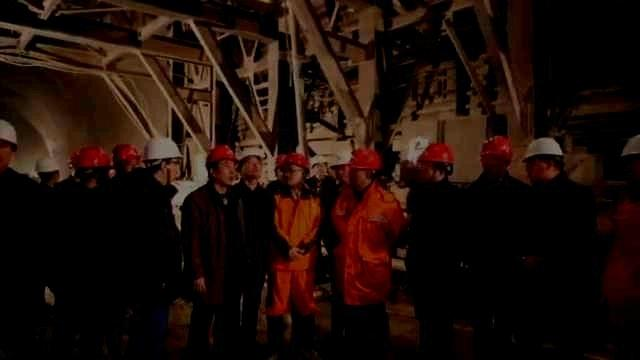helmet: (520, 136, 565, 183), (141, 136, 185, 181), (74, 144, 114, 188), (417, 142, 457, 183), (205, 143, 239, 187), (478, 134, 514, 175), (347, 146, 382, 186), (112, 143, 142, 176), (281, 152, 311, 185), (1, 120, 19, 170), (622, 134, 640, 180), (240, 146, 265, 179), (34, 156, 60, 184), (329, 150, 352, 181), (311, 155, 329, 179), (273, 154, 287, 179)
